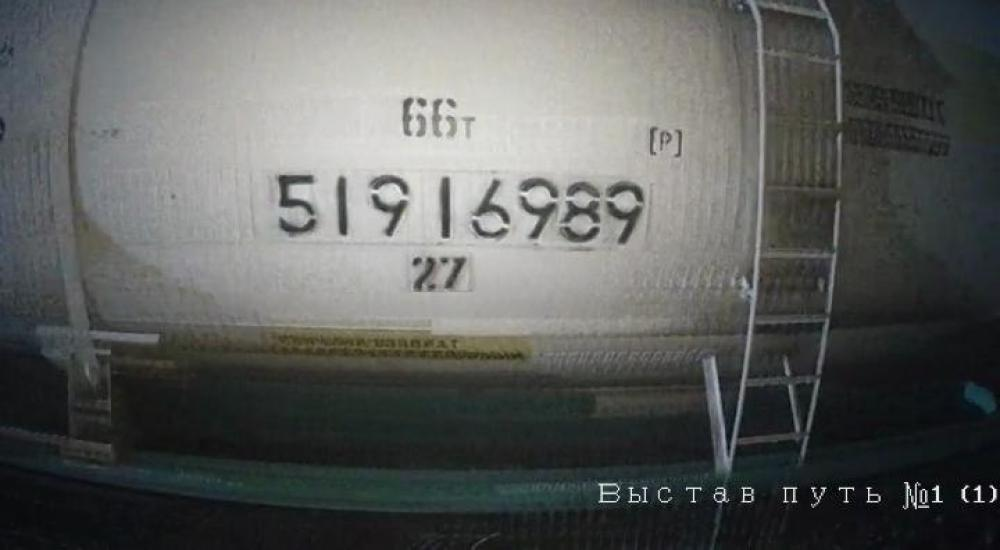Wagon-number: (273, 171, 648, 248)
